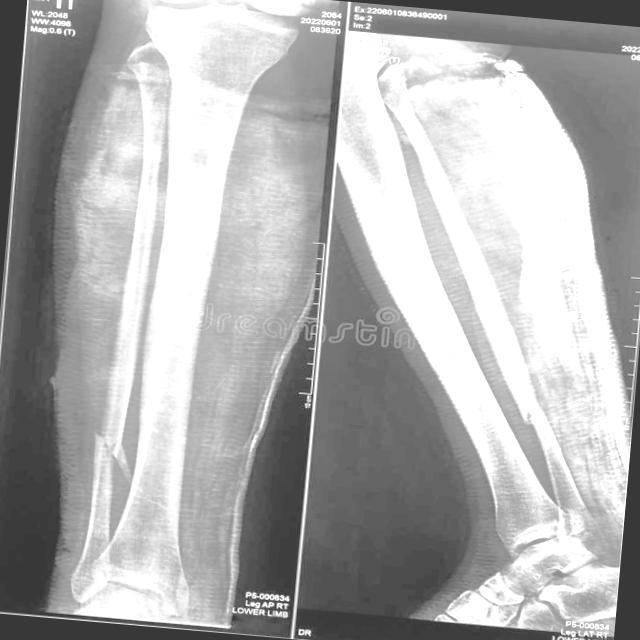Comminuted Fracture: (502, 377, 564, 448), (88, 415, 153, 482)
